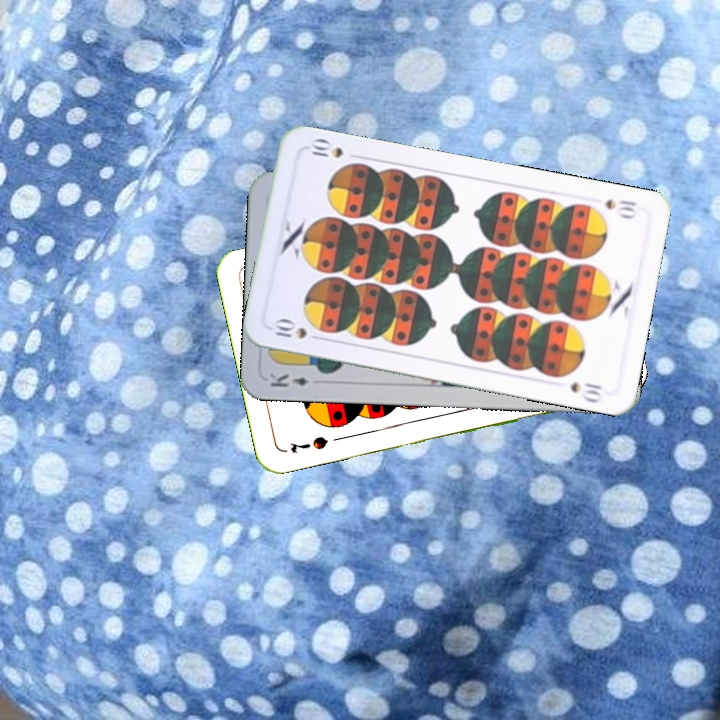EK: (265, 369, 311, 390)
S10: (267, 316, 310, 342), (601, 195, 640, 221)
S7: (286, 432, 331, 456)
